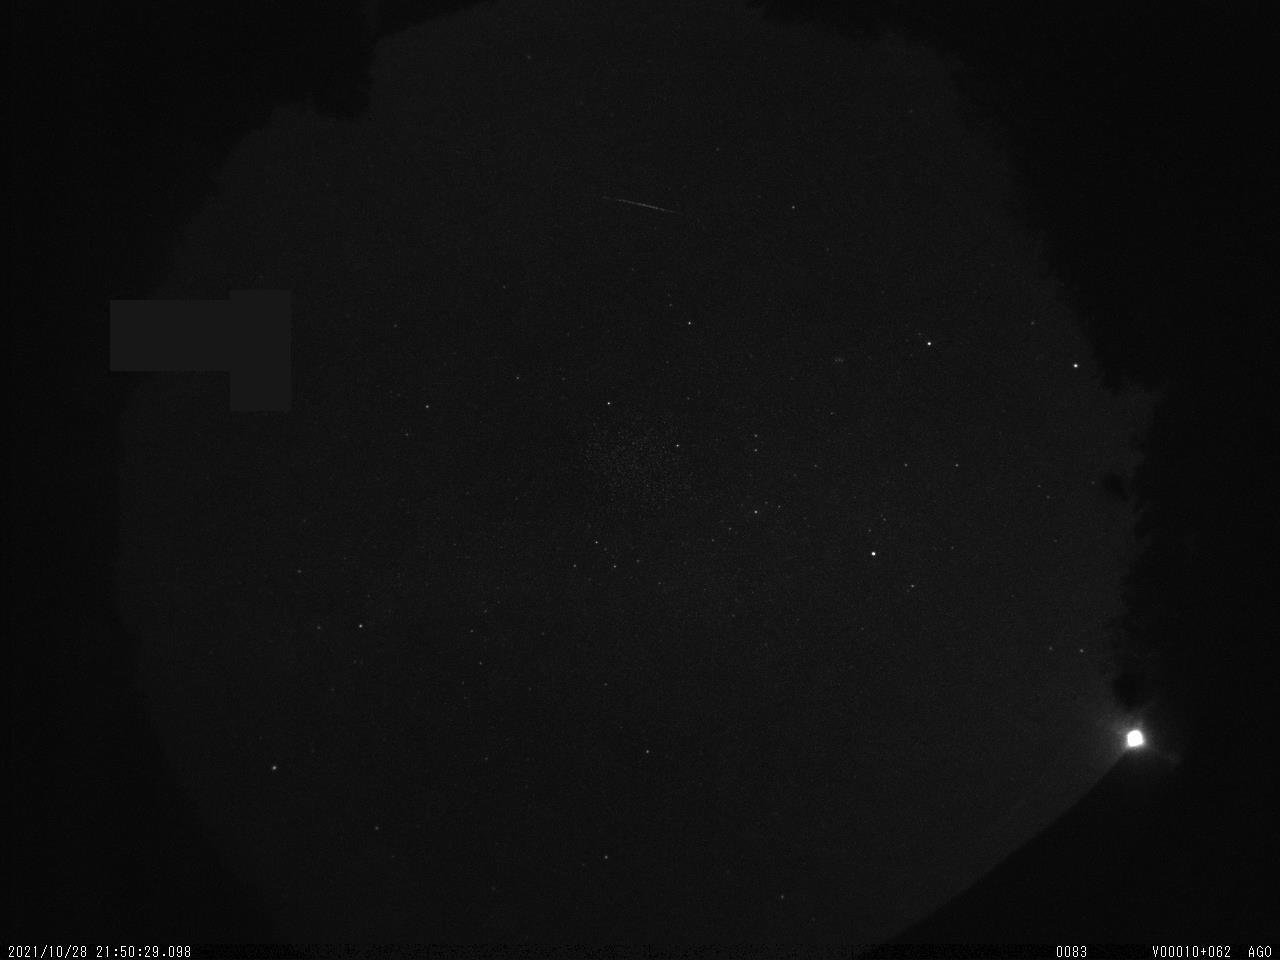meteor: (578, 187, 714, 220)
